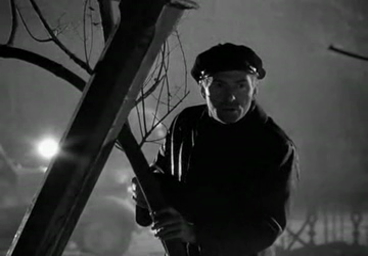face: (209, 75, 252, 122)
ms: (1, 1, 368, 256)
person: (132, 42, 301, 256)
